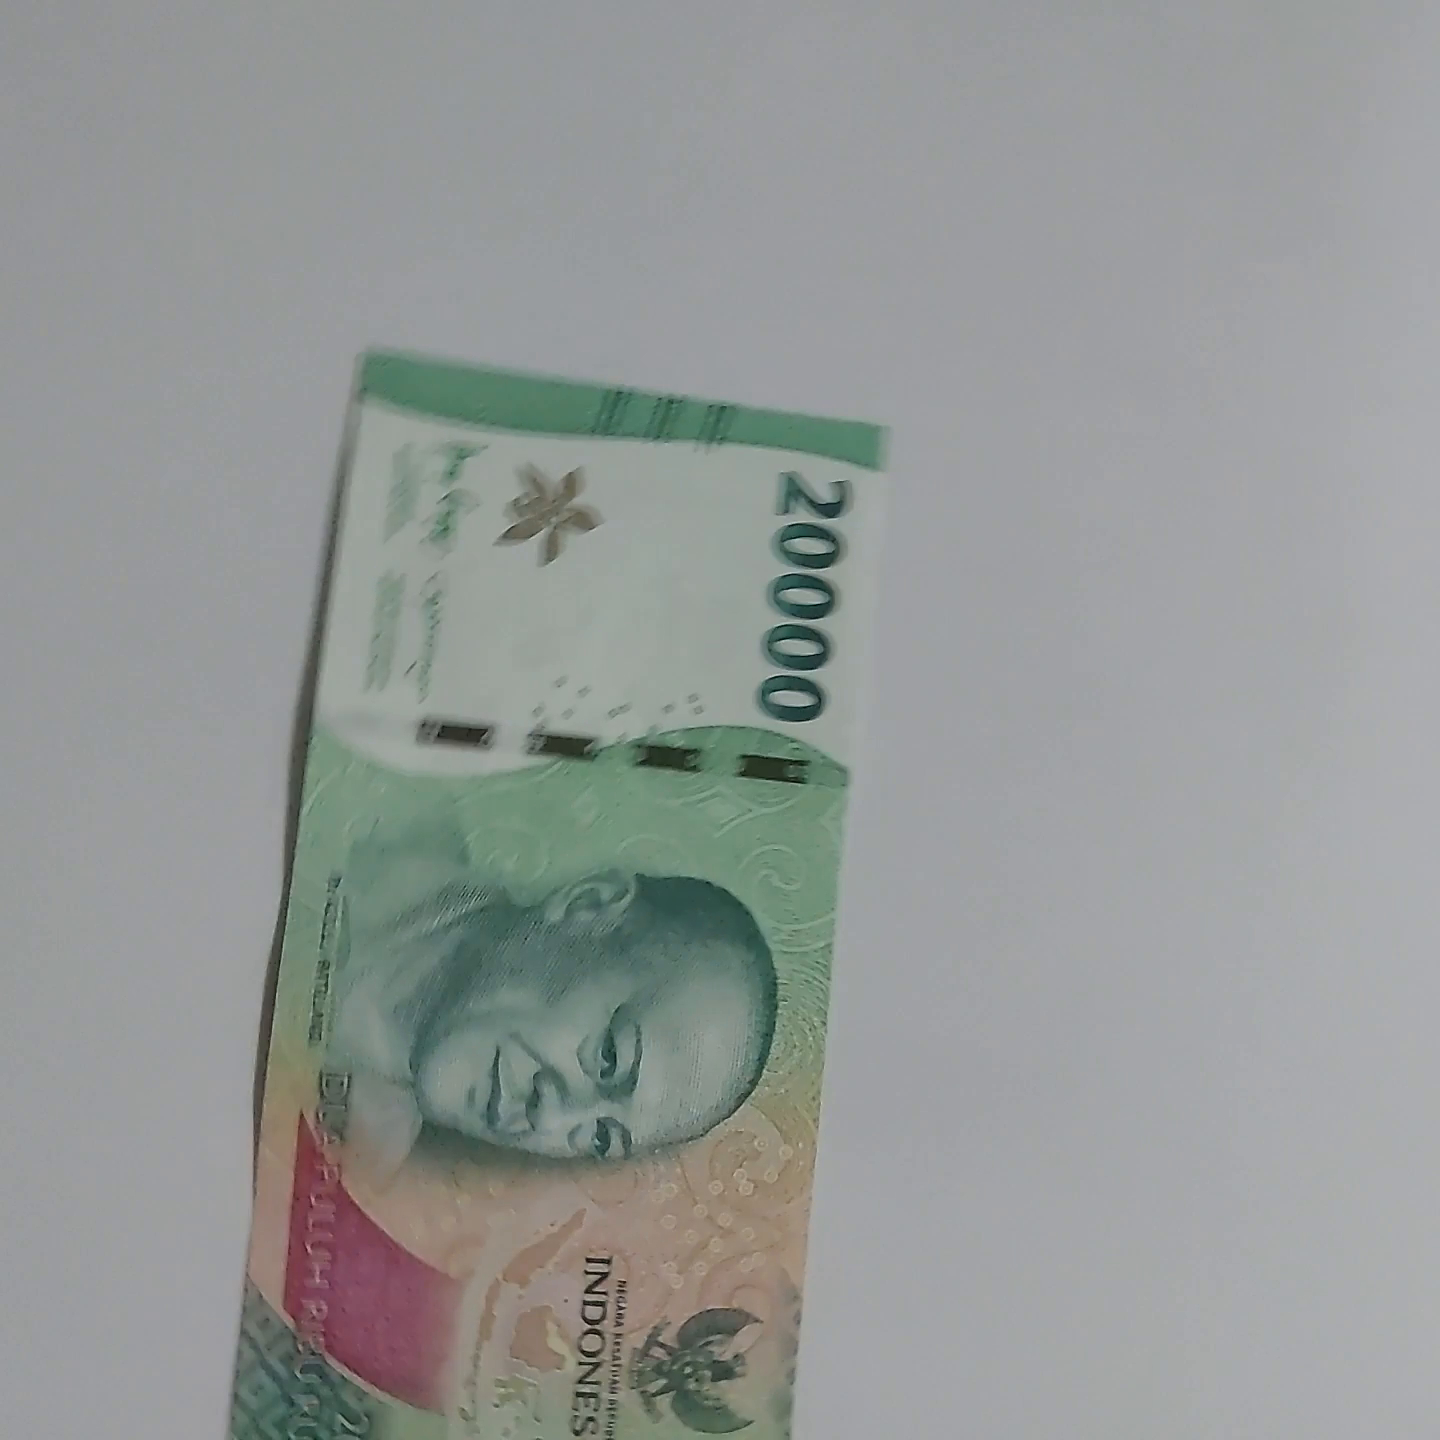20k: (227, 293, 822, 1440)
